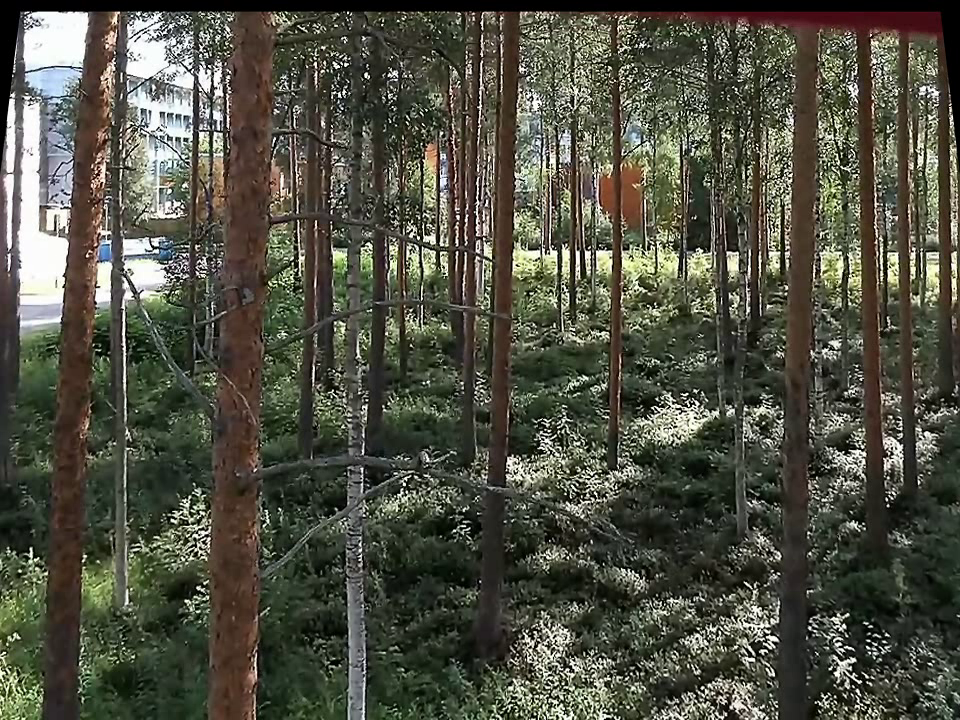branch: (268, 446, 635, 548), (266, 448, 455, 574), (279, 26, 490, 122), (268, 188, 495, 270), (260, 291, 525, 360), (269, 119, 350, 152)
trunk: (22, 18, 129, 714), (196, 12, 265, 714), (478, 18, 532, 653), (329, 24, 375, 715), (772, 35, 816, 713), (846, 36, 896, 537), (886, 38, 926, 501), (435, 49, 478, 457), (925, 41, 958, 393), (601, 22, 625, 471), (561, 18, 587, 330), (742, 56, 768, 341)
